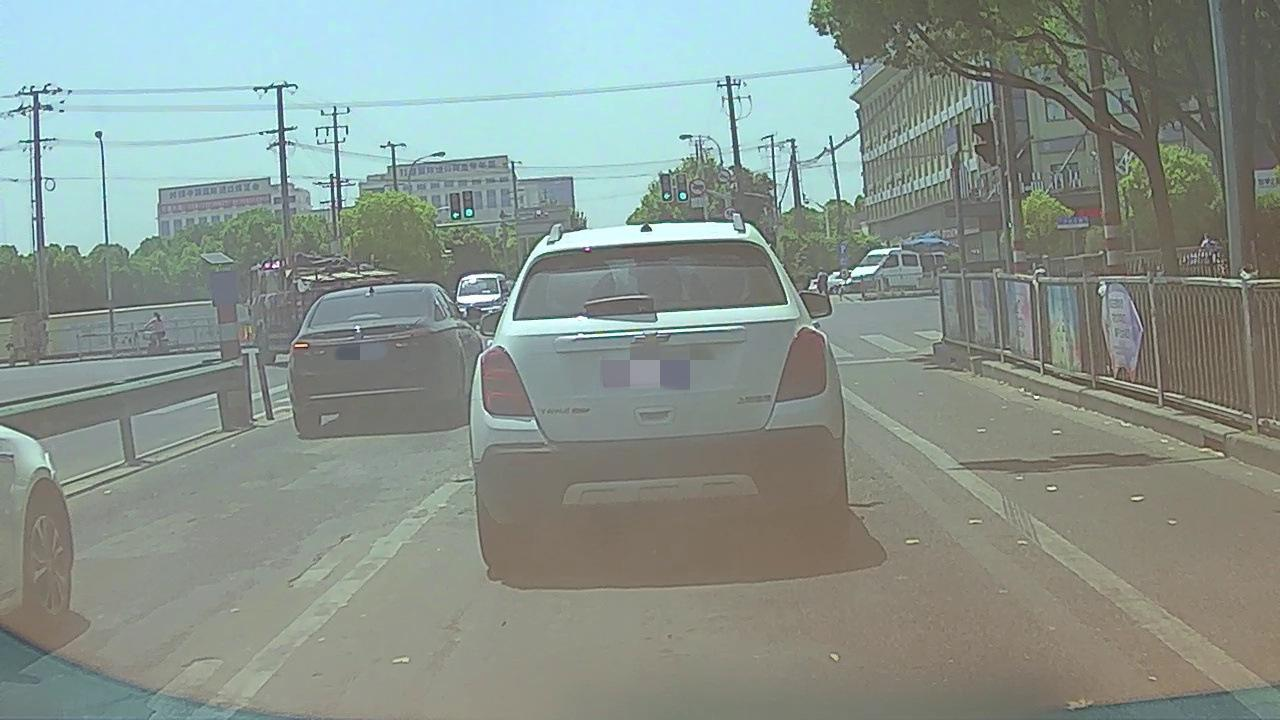traffic_light: (461, 191, 475, 218), (677, 174, 688, 203), (660, 173, 671, 201), (450, 195, 461, 218)
